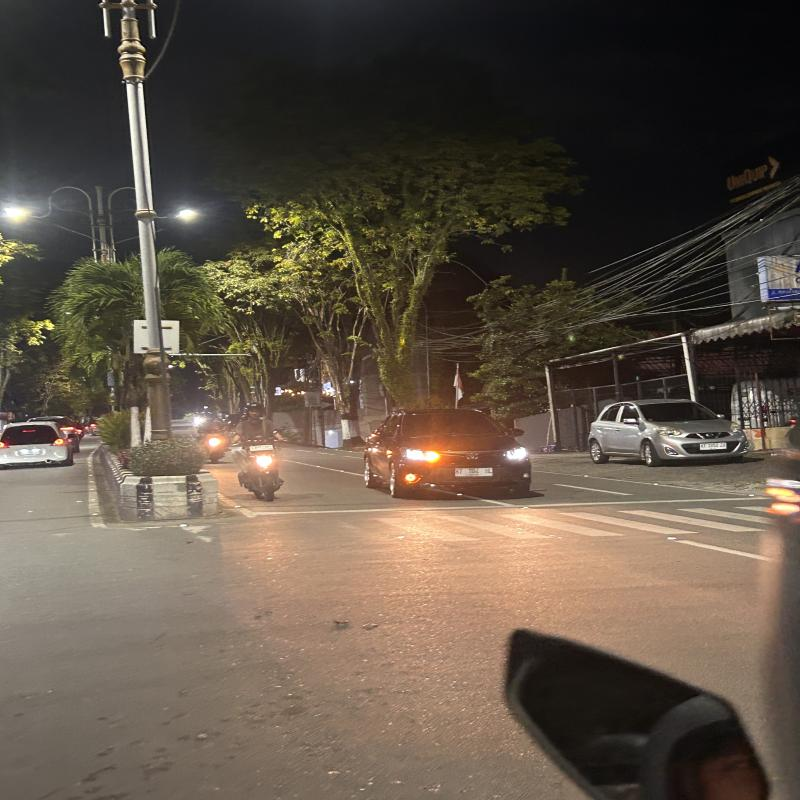license plate on a car: (453, 467, 500, 477), (701, 442, 728, 450)
